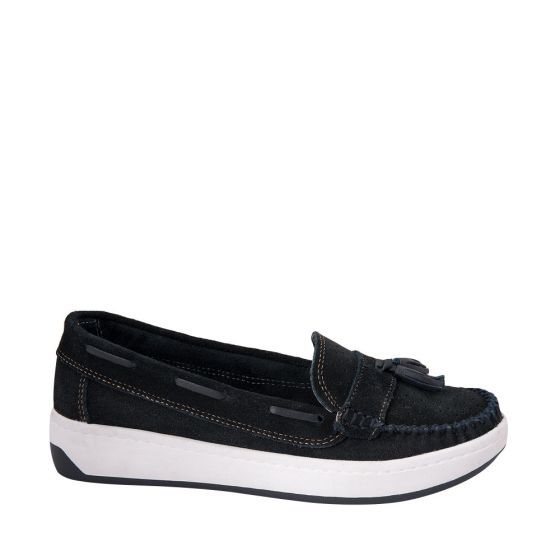gamuza: (54, 310, 503, 461)
